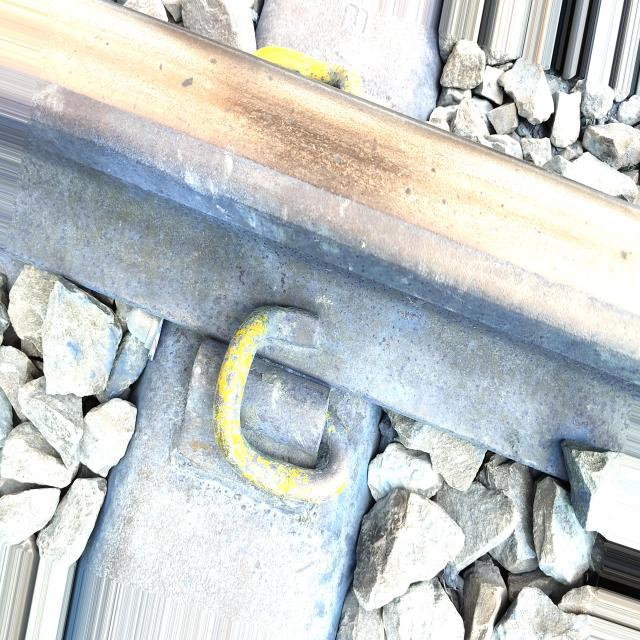Good Fasteners: (159, 262, 404, 550), (253, 46, 364, 97)
